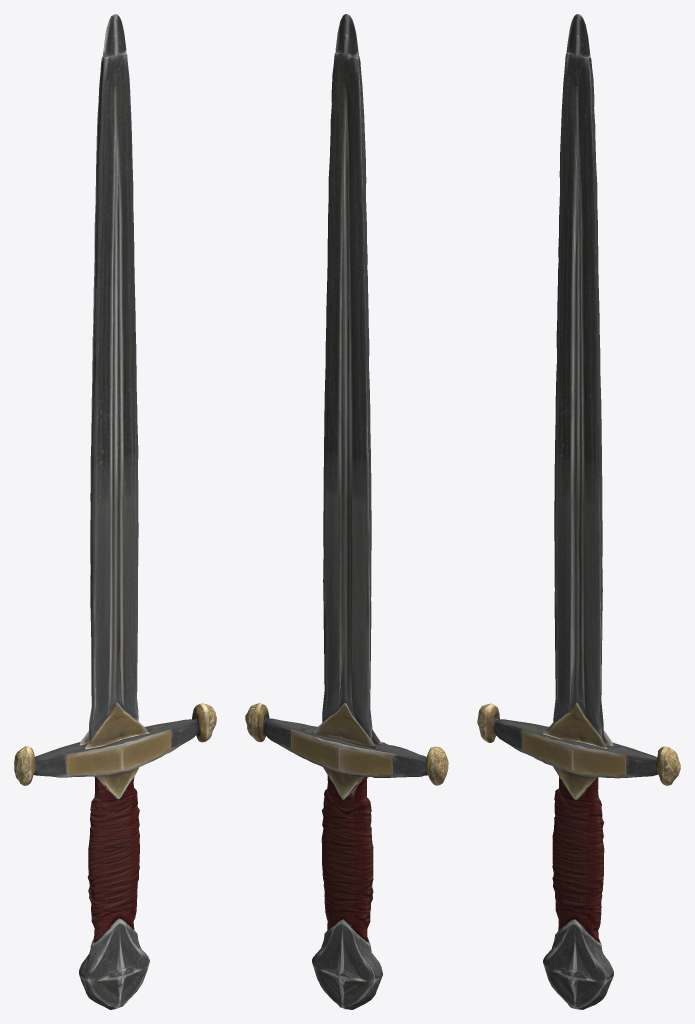
File: greatsword.glb
3 views of the same model, side by side, from view 1: azimuth 30°, elevation 25°; view 2: azimuth 150°, elevation 25°; view 3: azimuth 330°, elevation 25° (orthographic).
Parts seen in each view (by area): view 1: tripo_node_b9cd01ca-e888-4c54-903b-c5201058964c; view 2: tripo_node_b9cd01ca-e888-4c54-903b-c5201058964c; view 3: tripo_node_b9cd01ca-e888-4c54-903b-c5201058964c.
Part boxes in pixels (x1=…): tripo_node_b9cd01ca-e888-4c54-903b-c5201058964c: x1=14, y1=14, x2=216, y2=1009; tripo_node_b9cd01ca-e888-4c54-903b-c5201058964c: x1=245, y1=14, x2=448, y2=1009; tripo_node_b9cd01ca-e888-4c54-903b-c5201058964c: x1=477, y1=14, x2=680, y2=1009.
Size of the model in its own units: 0.32 by 1.51 by 0.04.
Materials: 1 (1 with a texture image).
